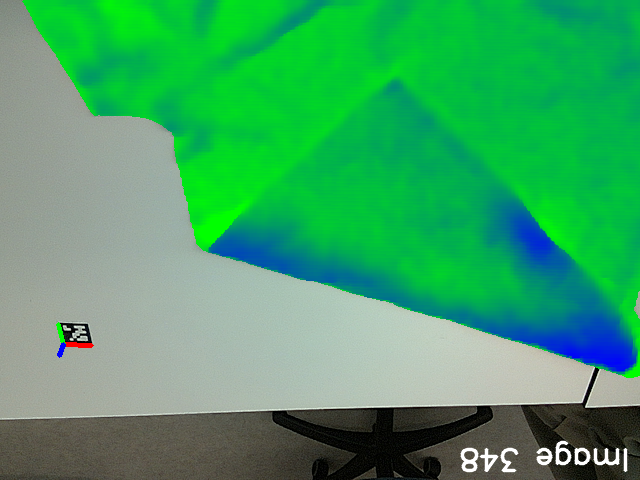V: (368, 65, 426, 114)
